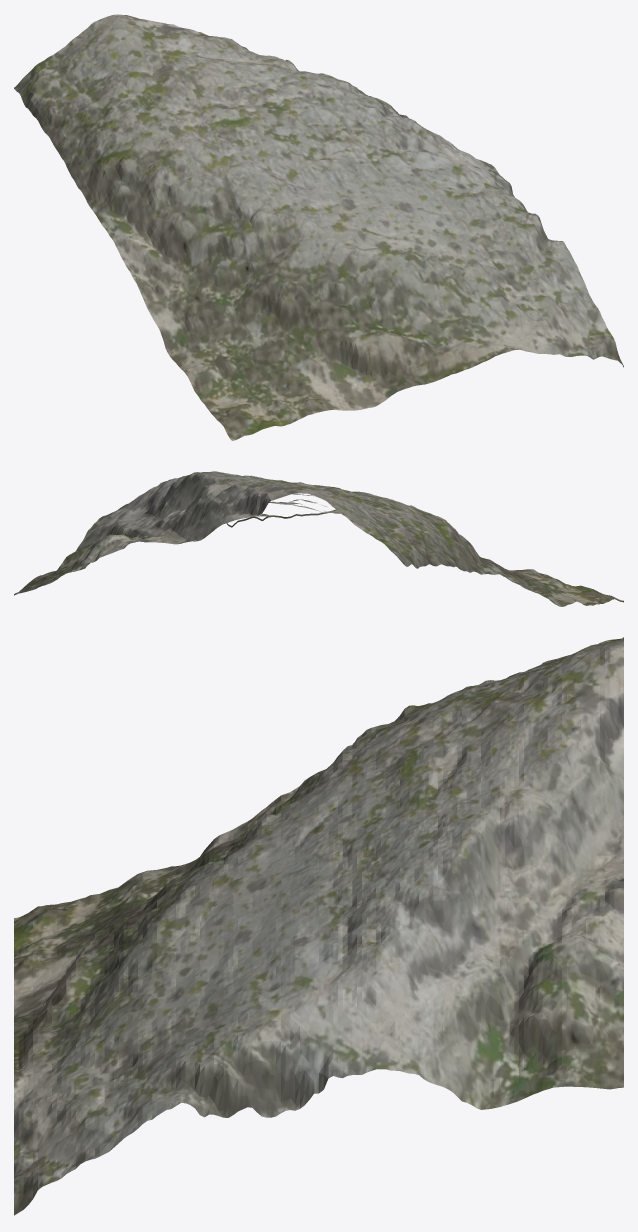
3 renders of one model, top to bottom at view 1: azimuth 30°, elevation 25°; view 2: azimuth 150°, elevation 25°; view 3: azimuth 270°, elevation 25°, orthographic. The views are drawn at different scales.
Size of the model in its own units: 250 by 162 by 241.
Materials: 1 (1 with a texture image).
